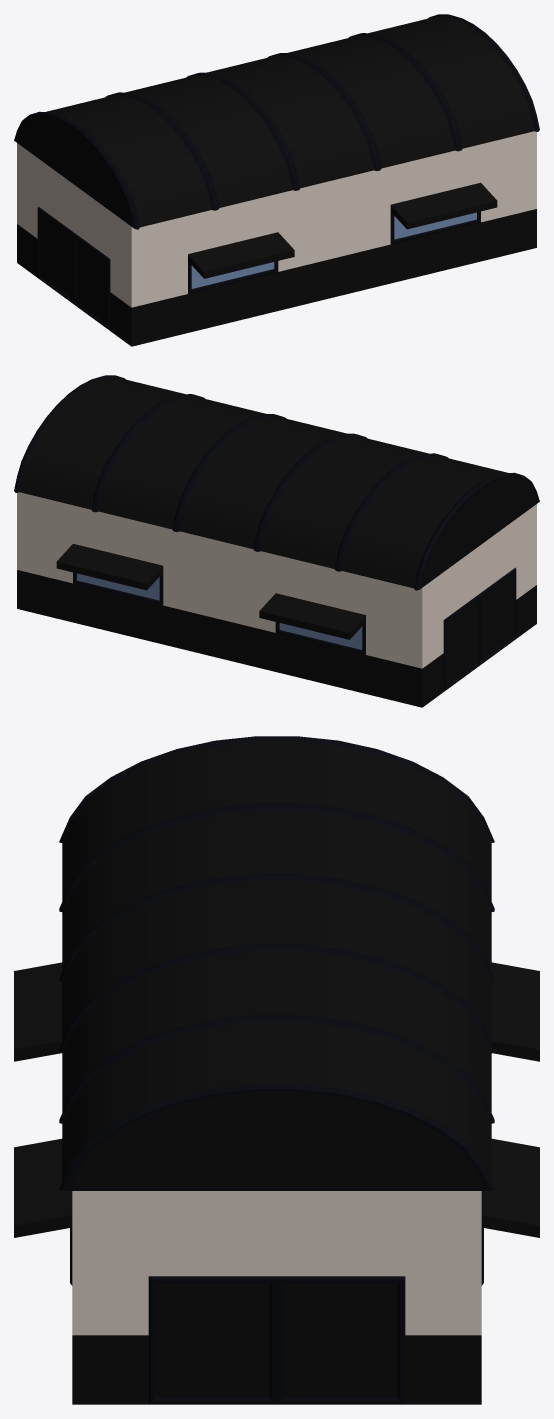
The model's file is Warehouse.FBX.
3 renders of one model, top to bottom at view 1: azimuth 30°, elevation 25°; view 2: azimuth 150°, elevation 25°; view 3: azimuth 270°, elevation 25°, orthographic. The views are drawn at different scales.
Visible parts, largest first — view 1: Box004; view 2: Box004; view 3: Box004.
Part boxes in pixels (x1,y1,x2,y2): Box004: (14, 14, 539, 346); Box004: (14, 375, 539, 707); Box004: (14, 736, 539, 1404).
Bounding box in the file's own units: 204 × 85.35 × 128.
